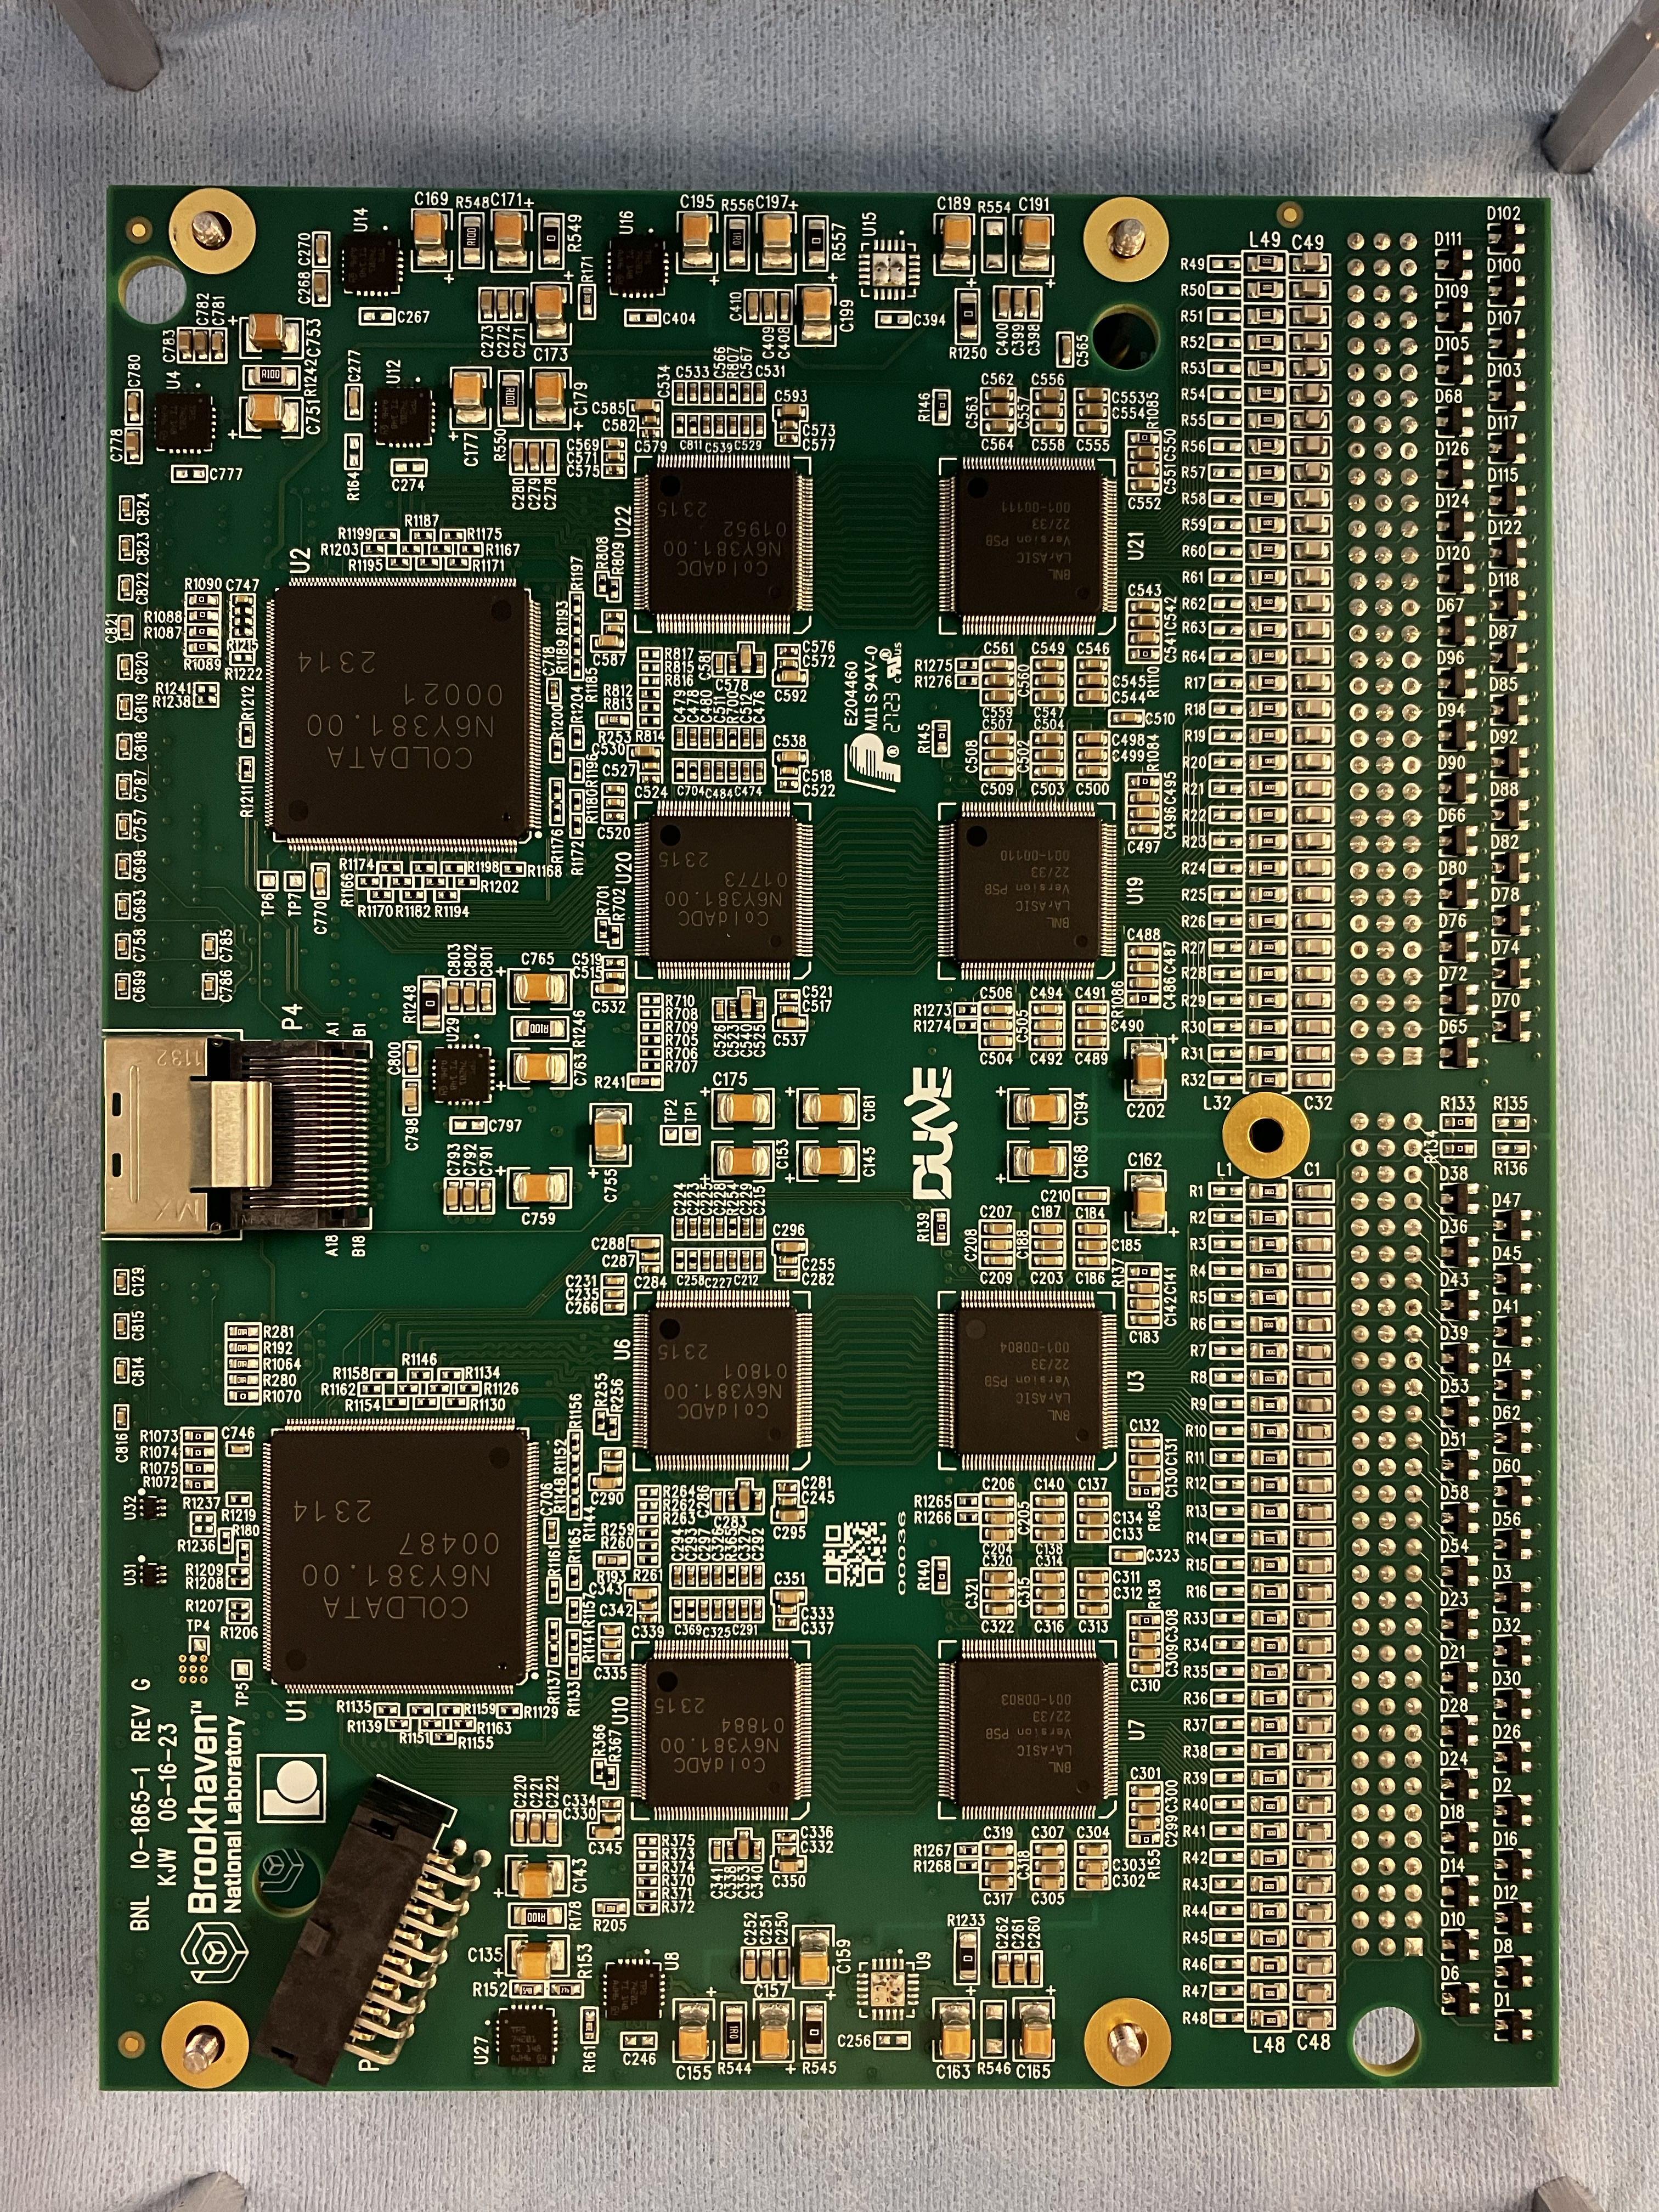chip: (277, 589, 528, 838), (274, 1433, 525, 1683), (648, 813, 796, 965), (951, 813, 1100, 965), (648, 1305, 796, 1456), (953, 1305, 1101, 1456), (647, 1655, 795, 1806), (955, 1655, 1103, 1806)
